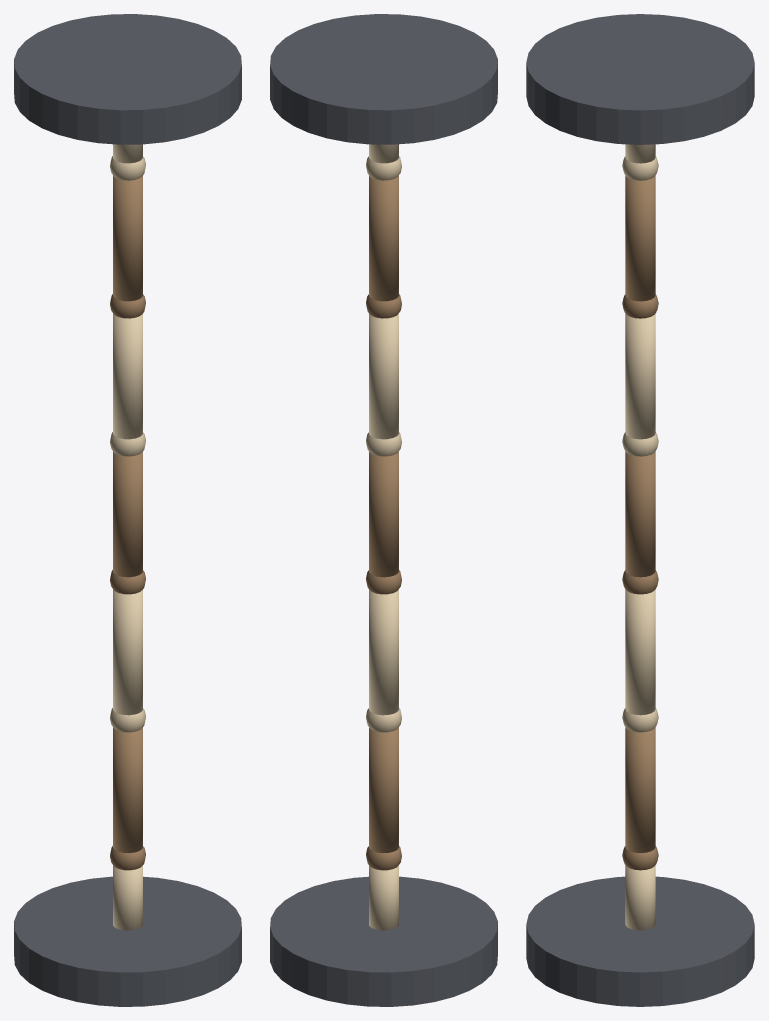
The model's file is IkRope.fbx.
3 renders of one model, left to right at view 1: azimuth 30°, elevation 25°; view 2: azimuth 150°, elevation 25°; view 3: azimuth 270°, elevation 25°, orthographic.
Visible parts, largest first — view 1: Clasp_End, Clasp_Root, Rope2, Rope3, Rope1, Rope4, Rope5; view 2: Clasp_End, Clasp_Root, Rope2, Rope3, Rope1, Rope4, Rope5; view 3: Clasp_End, Clasp_Root, Rope5, Rope2, Rope4, Rope1, Rope3.
Part boxes in pixels (x1,y1,x2,y2): Clasp_End: [14, 14, 241, 180]; Clasp_Root: [14, 865, 241, 1006]; Rope2: [110, 589, 145, 732]; Rope3: [110, 451, 145, 594]; Rope1: [110, 727, 145, 870]; Rope4: [110, 313, 145, 456]; Rope5: [110, 175, 145, 318]; Clasp_End: [270, 14, 497, 180]; Clasp_Root: [270, 865, 497, 1006]; Rope2: [366, 589, 401, 732]; Rope3: [366, 451, 401, 594]; Rope1: [366, 727, 401, 870]; Rope4: [366, 313, 401, 456]; Rope5: [366, 175, 401, 318]; Clasp_End: [526, 14, 754, 180]; Clasp_Root: [526, 865, 754, 1006]; Rope5: [622, 176, 658, 318]; Rope2: [622, 589, 658, 732]; Rope4: [622, 313, 658, 456]; Rope1: [622, 727, 658, 870]; Rope3: [622, 451, 658, 594].
Size of the model in its own units: 0.3 by 1.3 by 0.3.
